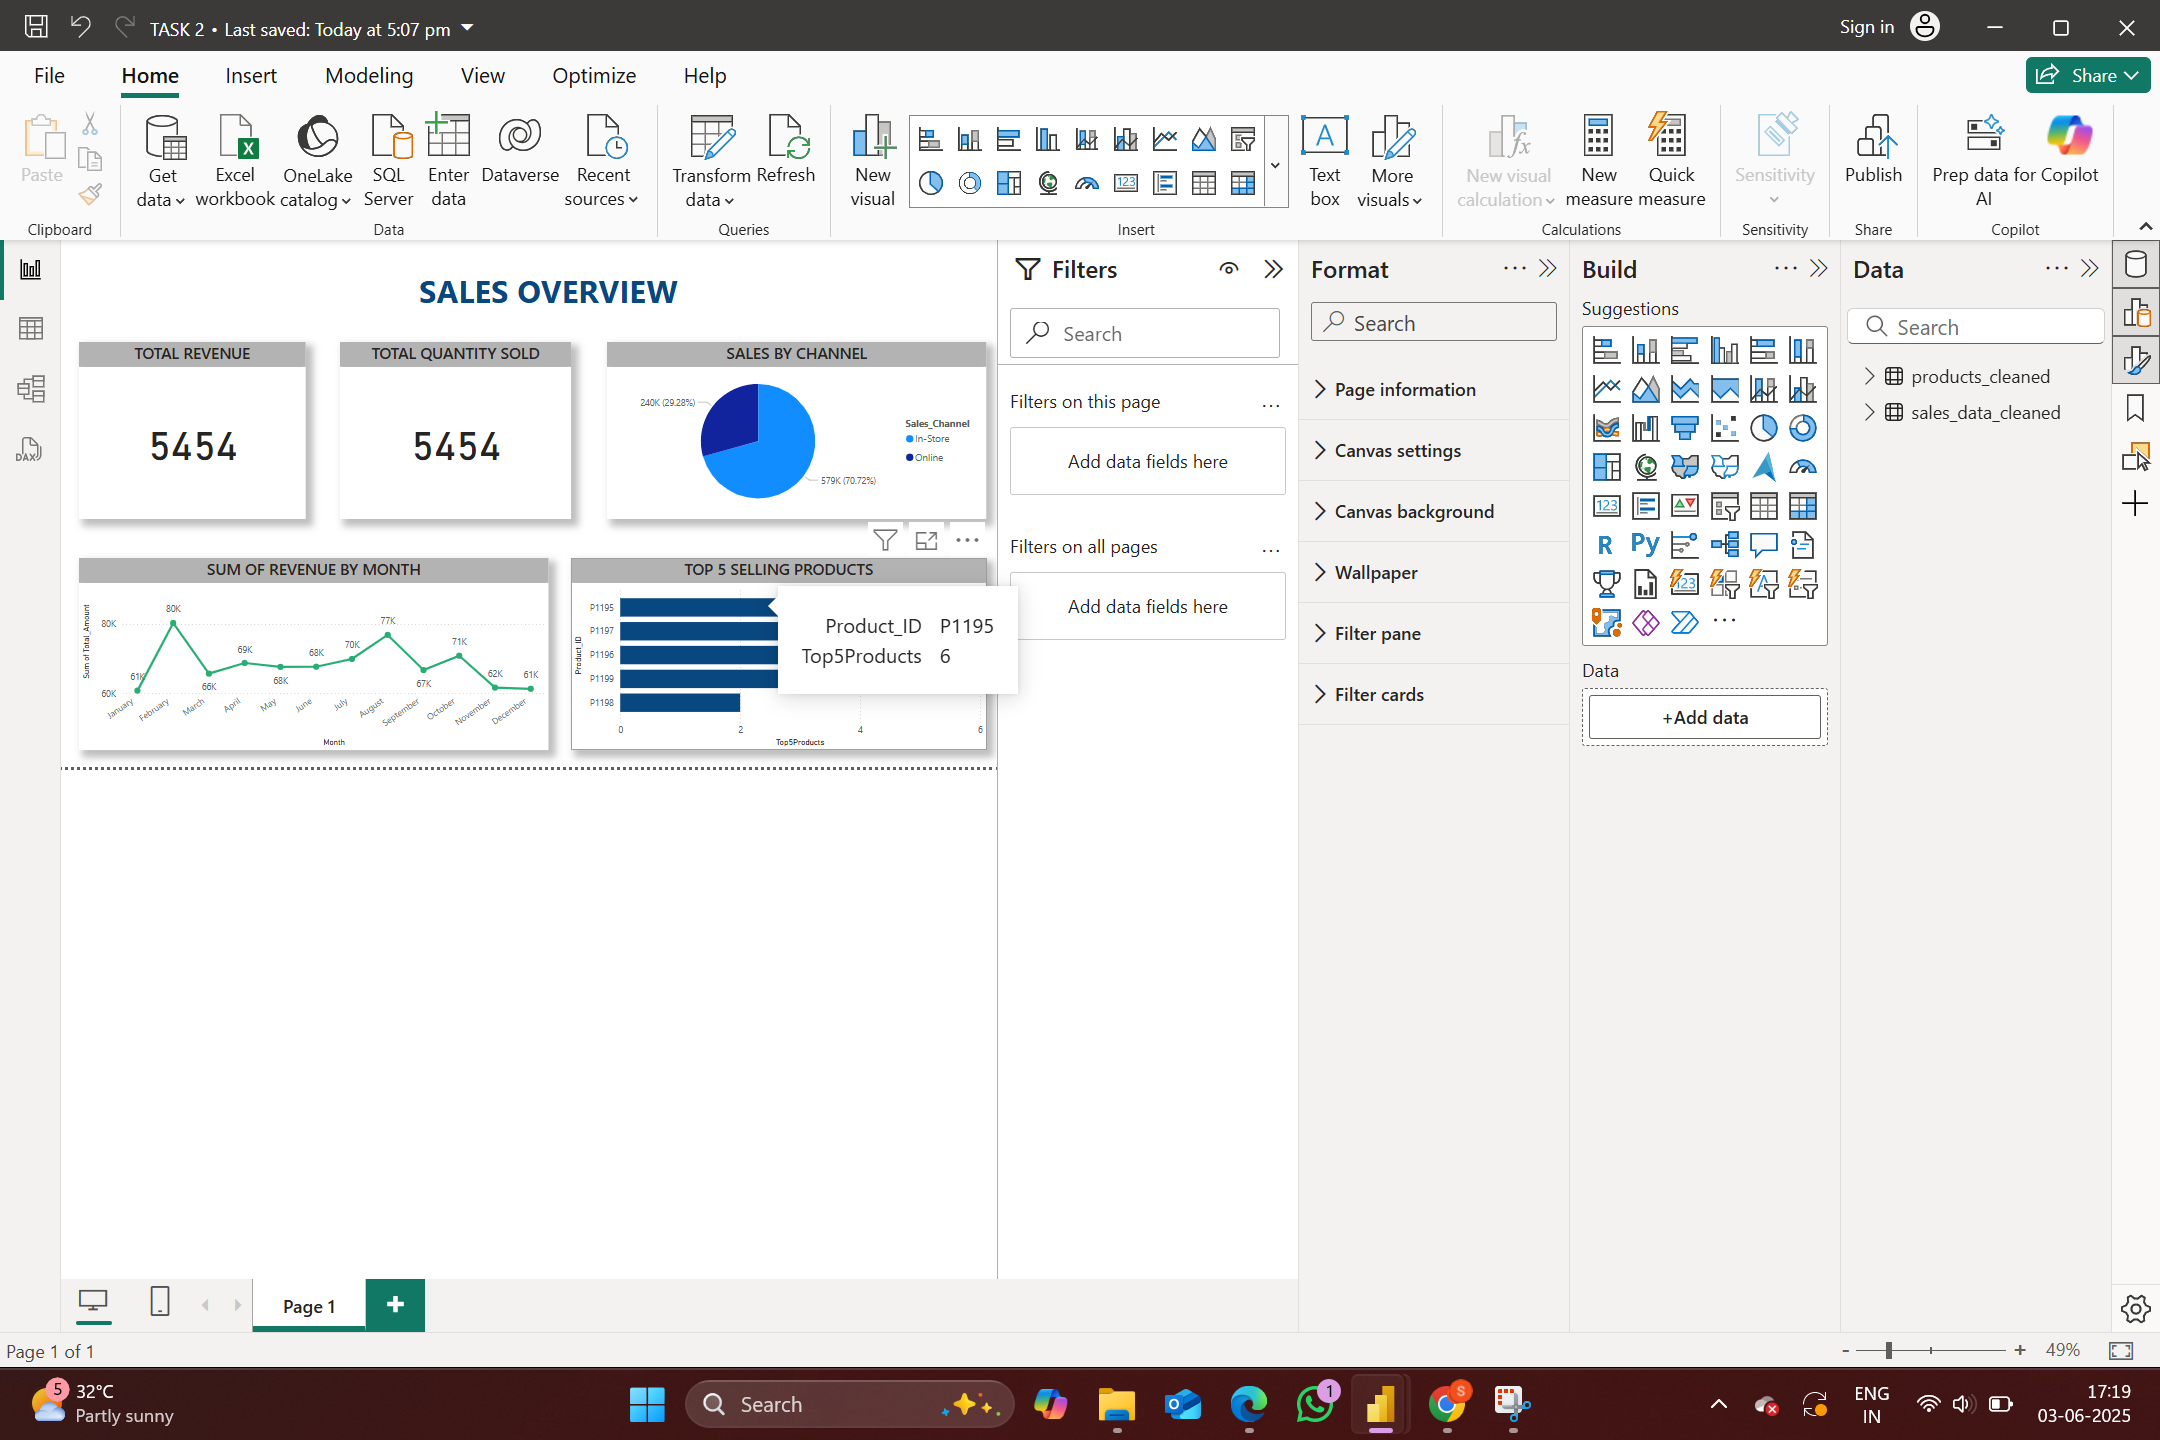

The page's visual inventory and layout, read from the dashboard file:
{"tool":"powerbi","page":{"name":"Page 1","canvas":[1280,720],"ordinal":0},"visuals":[{"type":"card","title":"TOTAL REVENUE","fields":{"Values":["Sum(sales_data_cleaned.Quantity)"]},"box":[24.6,139.5,309.7,242.1],"z":0},{"type":"card","title":"TOTAL QUANTITY SOLD","fields":{"Values":["Sum(sales_data_cleaned.Quantity)"]},"box":[381.5,139.5,315.9,242.1],"z":1},{"type":"pieChart","title":"SALES BY CHANNEL","fields":{"Category":["sales_data_cleaned.Sales_Channel"],"Y":["Sum(sales_data_cleaned.Total_Amount)"]},"box":[746.7,139.5,519,242.1],"z":2},{"type":"lineChart","title":"SUM OF REVENUE BY MONTH","fields":{"Category":["sales_data_cleaned.Order_Date.Variation.Date Hierarchy.Month"],"Y":["Sum(sales_data_cleaned.Total_Amount)"]},"box":[24.6,434.9,642.1,262.6],"z":3},{"type":"barChart","title":"TOP 5 SELLING PRODUCTS","fields":{"Category":["sales_data_cleaned.Product_ID"],"Y":["sales_data_cleaned.Top5Products"]},"box":[697.4,434.9,568.2,262.6],"z":4},{"type":"textbox","box":[453.3,34.9,426.7,69.7],"z":5}]}

Visuals, with their boxes on the page's 1280x720 design canvas (x1, y1, x2, y2). These are canvas units, not pixel positions in the 2160x1440 screenshot, which may show the page scaled, cropped or inside an application window:
"TOTAL REVENUE" card: rect(25, 140, 334, 382)
"TOTAL QUANTITY SOLD" card: rect(382, 140, 697, 382)
"SALES BY CHANNEL" pieChart: rect(747, 140, 1266, 382)
"SUM OF REVENUE BY MONTH" lineChart: rect(25, 435, 667, 698)
"TOP 5 SELLING PRODUCTS" barChart: rect(697, 435, 1266, 698)
textbox: rect(453, 35, 880, 105)
